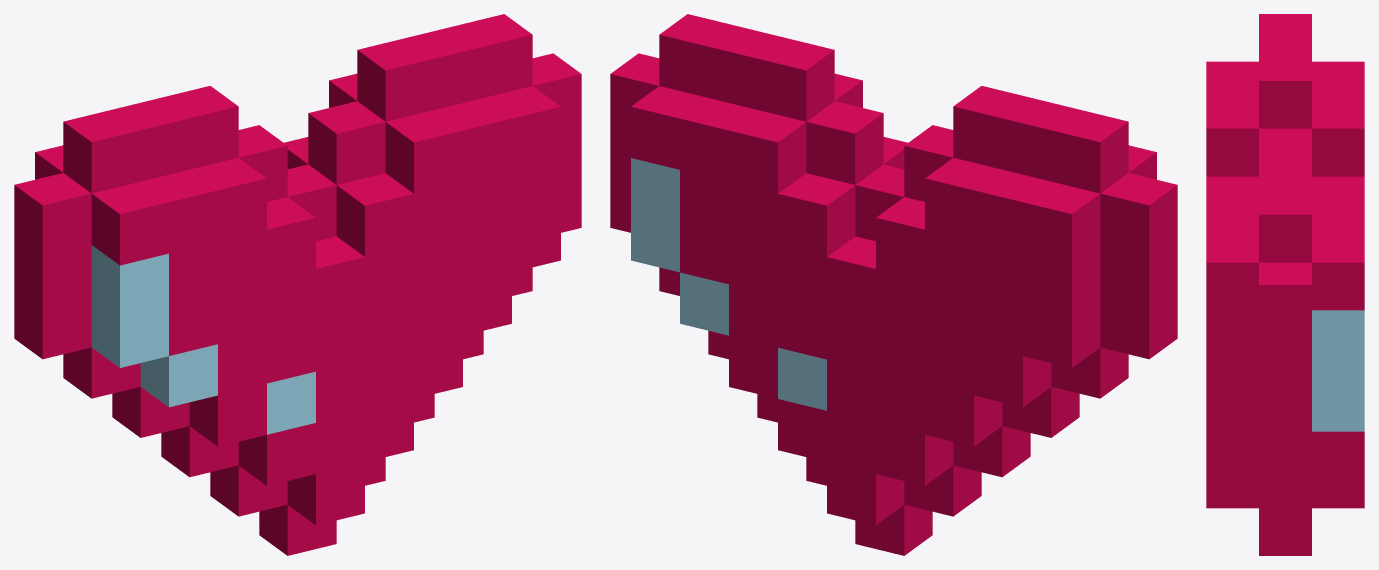
The model's file is Heart.fbx.
3 renders of one model, left to right at view 1: azimuth 30°, elevation 25°; view 2: azimuth 150°, elevation 25°; view 3: azimuth 270°, elevation 25°, orthographic. The views are drawn at different scales.
Visible parts, largest first — view 1: Matrix; view 2: Matrix; view 3: Matrix.
Part boxes in pixels (x1,y1,x2,y2): Matrix: [14, 14, 581, 555]; Matrix: [610, 14, 1177, 555]; Matrix: [1206, 14, 1364, 555].
Bounding box in the file's own units: 11 × 9 × 3.
1 material, 1 textured.
